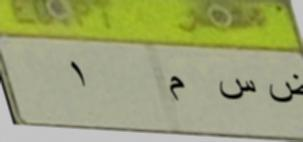1: (67, 56, 90, 89)
daad: (264, 68, 303, 110)
meem: (166, 74, 190, 104)
seen: (217, 73, 259, 110)
